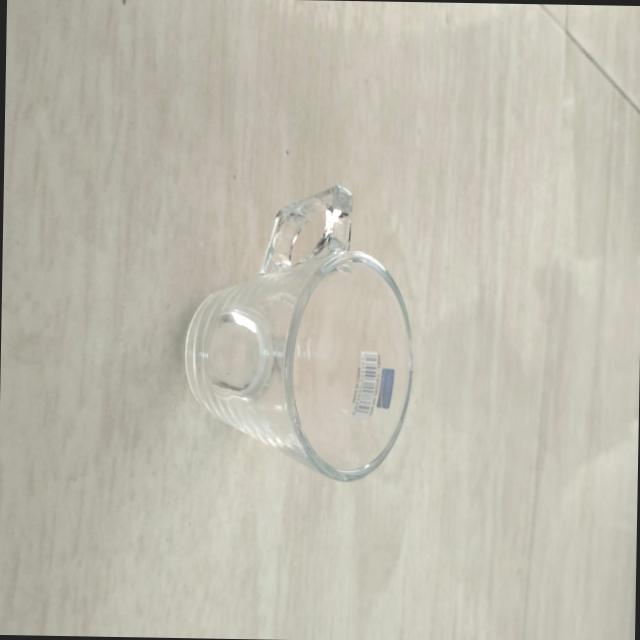glass-VX4N: (180, 182, 415, 484)
